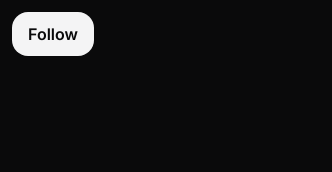
Test: FollowButton › clears pending after follow error
Later steps or results of the test are not shown.
Click the button "Follow": (53, 34) [12, 12, 94, 56]
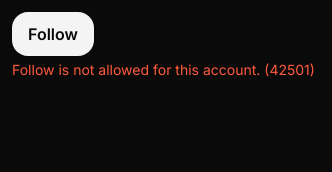
expect the message shows "Follow is not allowed": met, box [12, 61, 315, 78]
